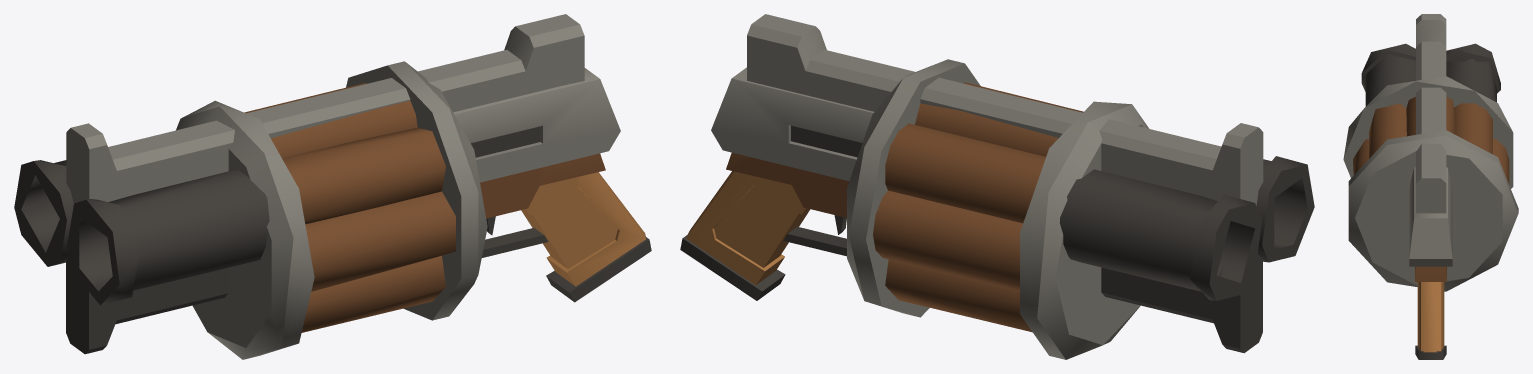
The model's file is cc0-grenade-launcher-lod1.glb.
3 views of the same model, side by side, from view 1: azimuth 30°, elevation 25°; view 2: azimuth 150°, elevation 25°; view 3: azimuth 270°, elevation 25° (orthographic). The views are drawn at different scales.
Parts seen in each view (by area): view 1: part_0; view 2: part_0; view 3: part_0.
Part boxes in pixels (bbox=[...]): part_0: bbox=[14, 14, 651, 359]; part_0: bbox=[680, 14, 1314, 359]; part_0: bbox=[1343, 14, 1518, 359].
Bounding box in the file's own units: 1.2 × 0.555 × 0.4779.
